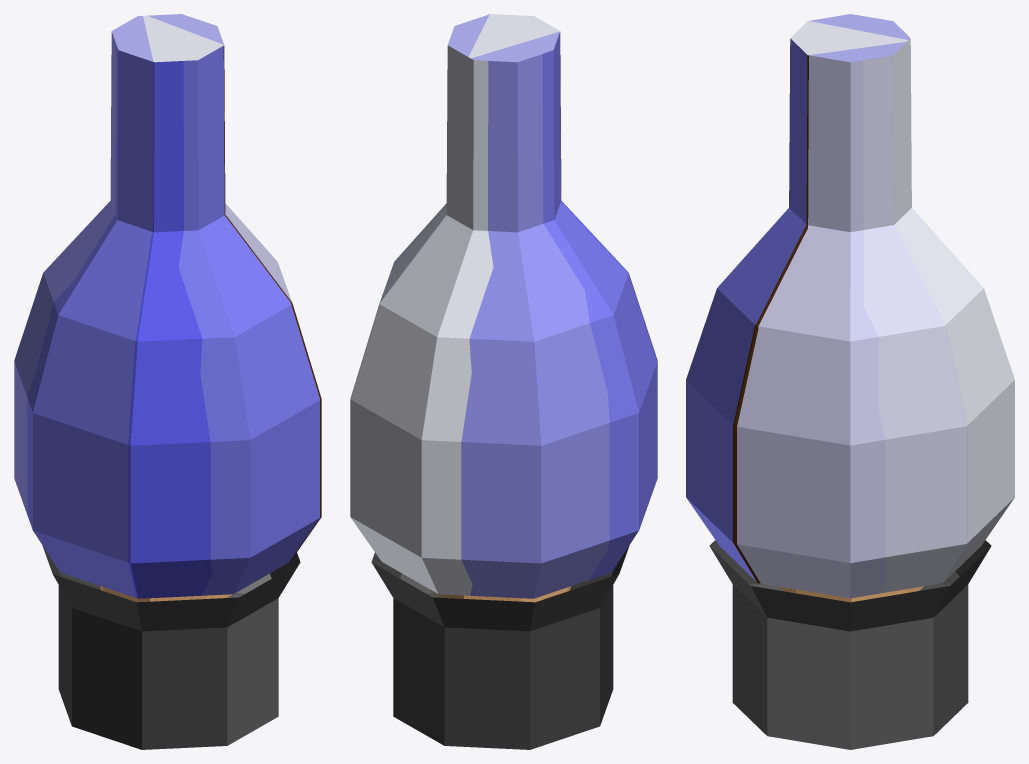
Rendered from spent_light_997x02.gltf.
The picture shows the model from 3 angles, left to right: view 1: azimuth 30°, elevation 25°; view 2: azimuth 150°, elevation 25°; view 3: azimuth 270°, elevation 25°; orthographic projection.
Visible parts, largest first — view 1: spent_light_997x02; view 2: spent_light_997x02; view 3: spent_light_997x02.
Boxes of the visible parts, x1,y1,x2,y2 form: spent_light_997x02: [14, 14, 321, 749]; spent_light_997x02: [350, 14, 657, 749]; spent_light_997x02: [686, 14, 1014, 749].
Bounding box in the file's own units: 0.3802 × 0.8936 × 0.401.
Materials: 2 (2 with a texture image).
